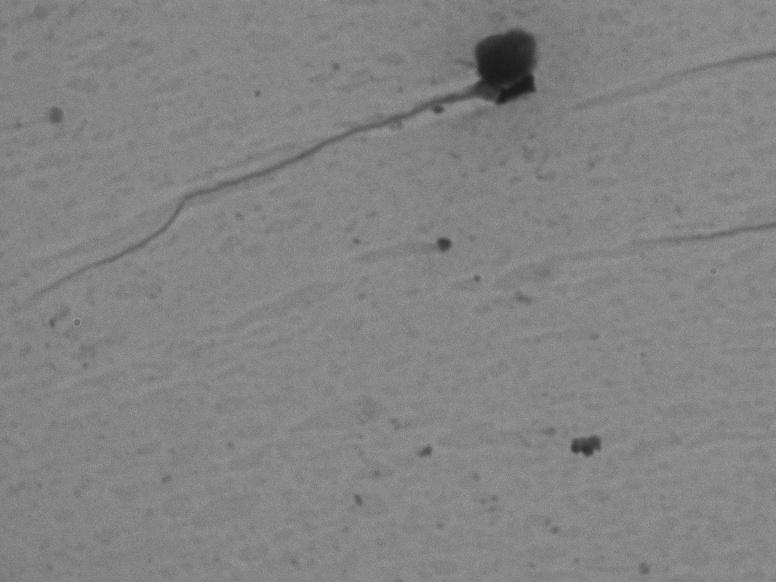Abnormal: (31, 13, 567, 325)
